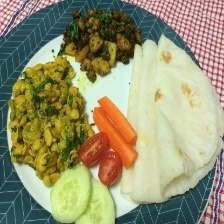sabzi: (60, 7, 146, 82)
